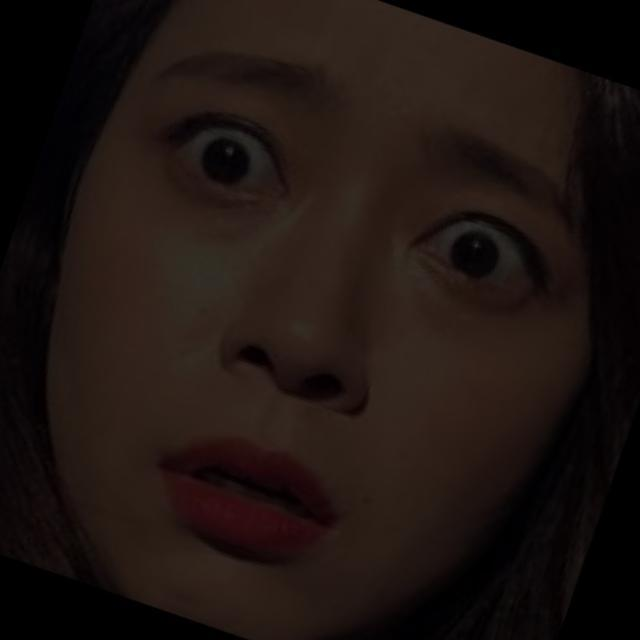surprised: (93, 50, 569, 619)
